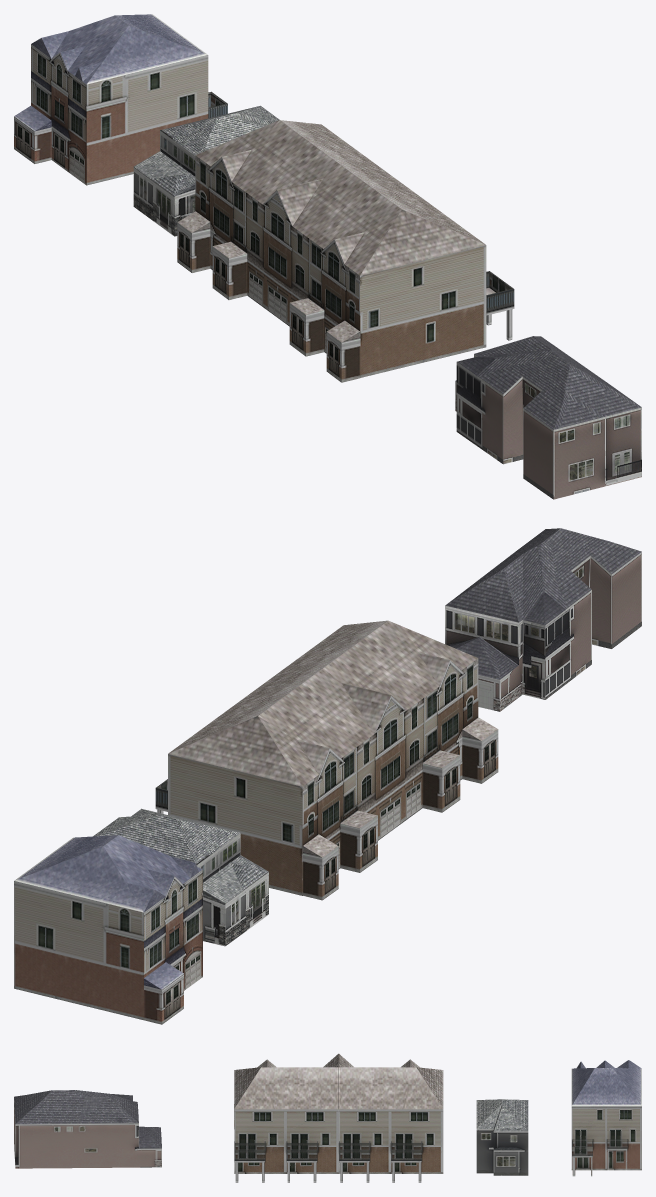
Rendered from countyBuildsSA.fbx.
The picture shows the model from 3 angles, top to bottom: view 1: azimuth 30°, elevation 25°; view 2: azimuth 150°, elevation 25°; view 3: azimuth 270°, elevation 25°; orthographic projection. The views are drawn at different scales.
Visible parts, largest first — view 1: HomeBig1, Homesmall2, HomeMedium, HomeSmall1; view 2: HomeBig1, Homesmall2, HomeMedium, HomeSmall1; view 3: HomeBig1, HomeMedium, Homesmall2, HomeSmall1.
Boxes of the visible parts, <box> form: HomeBig1: <box>177,120,514,382</box>; Homesmall2: <box>14,14,227,185</box>; HomeMedium: <box>455,336,641,499</box>; HomeSmall1: <box>133,105,279,236</box>; HomeBig1: <box>155,620,498,900</box>; Homesmall2: <box>14,835,202,1024</box>; HomeMedium: <box>445,528,641,711</box>; HomeSmall1: <box>93,808,268,946</box>; HomeBig1: <box>234,1053,443,1182</box>; HomeMedium: <box>14,1090,161,1168</box>; Homesmall2: <box>571,1060,641,1176</box>; HomeSmall1: <box>476,1099,528,1175</box>.
Size of the model in its own units: 38.96 by 28.61 by 186.
